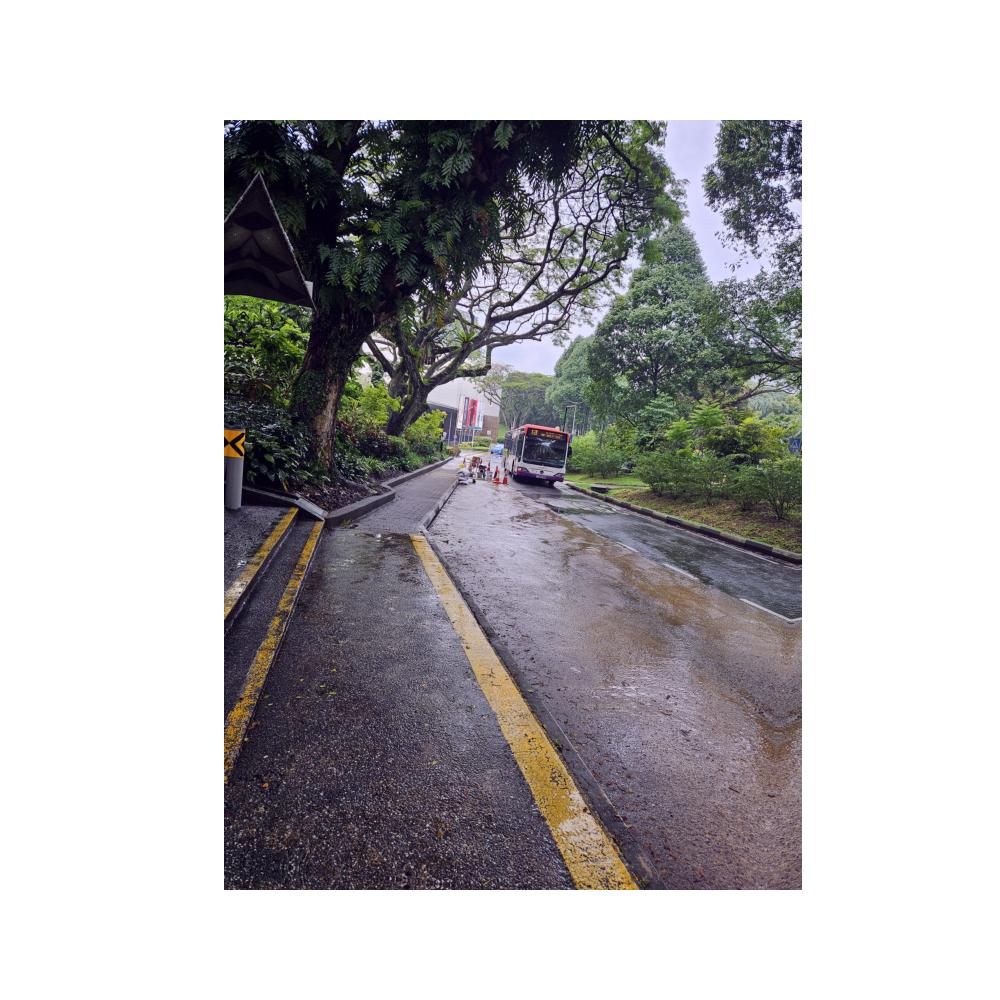bus: (500, 423, 574, 485)
